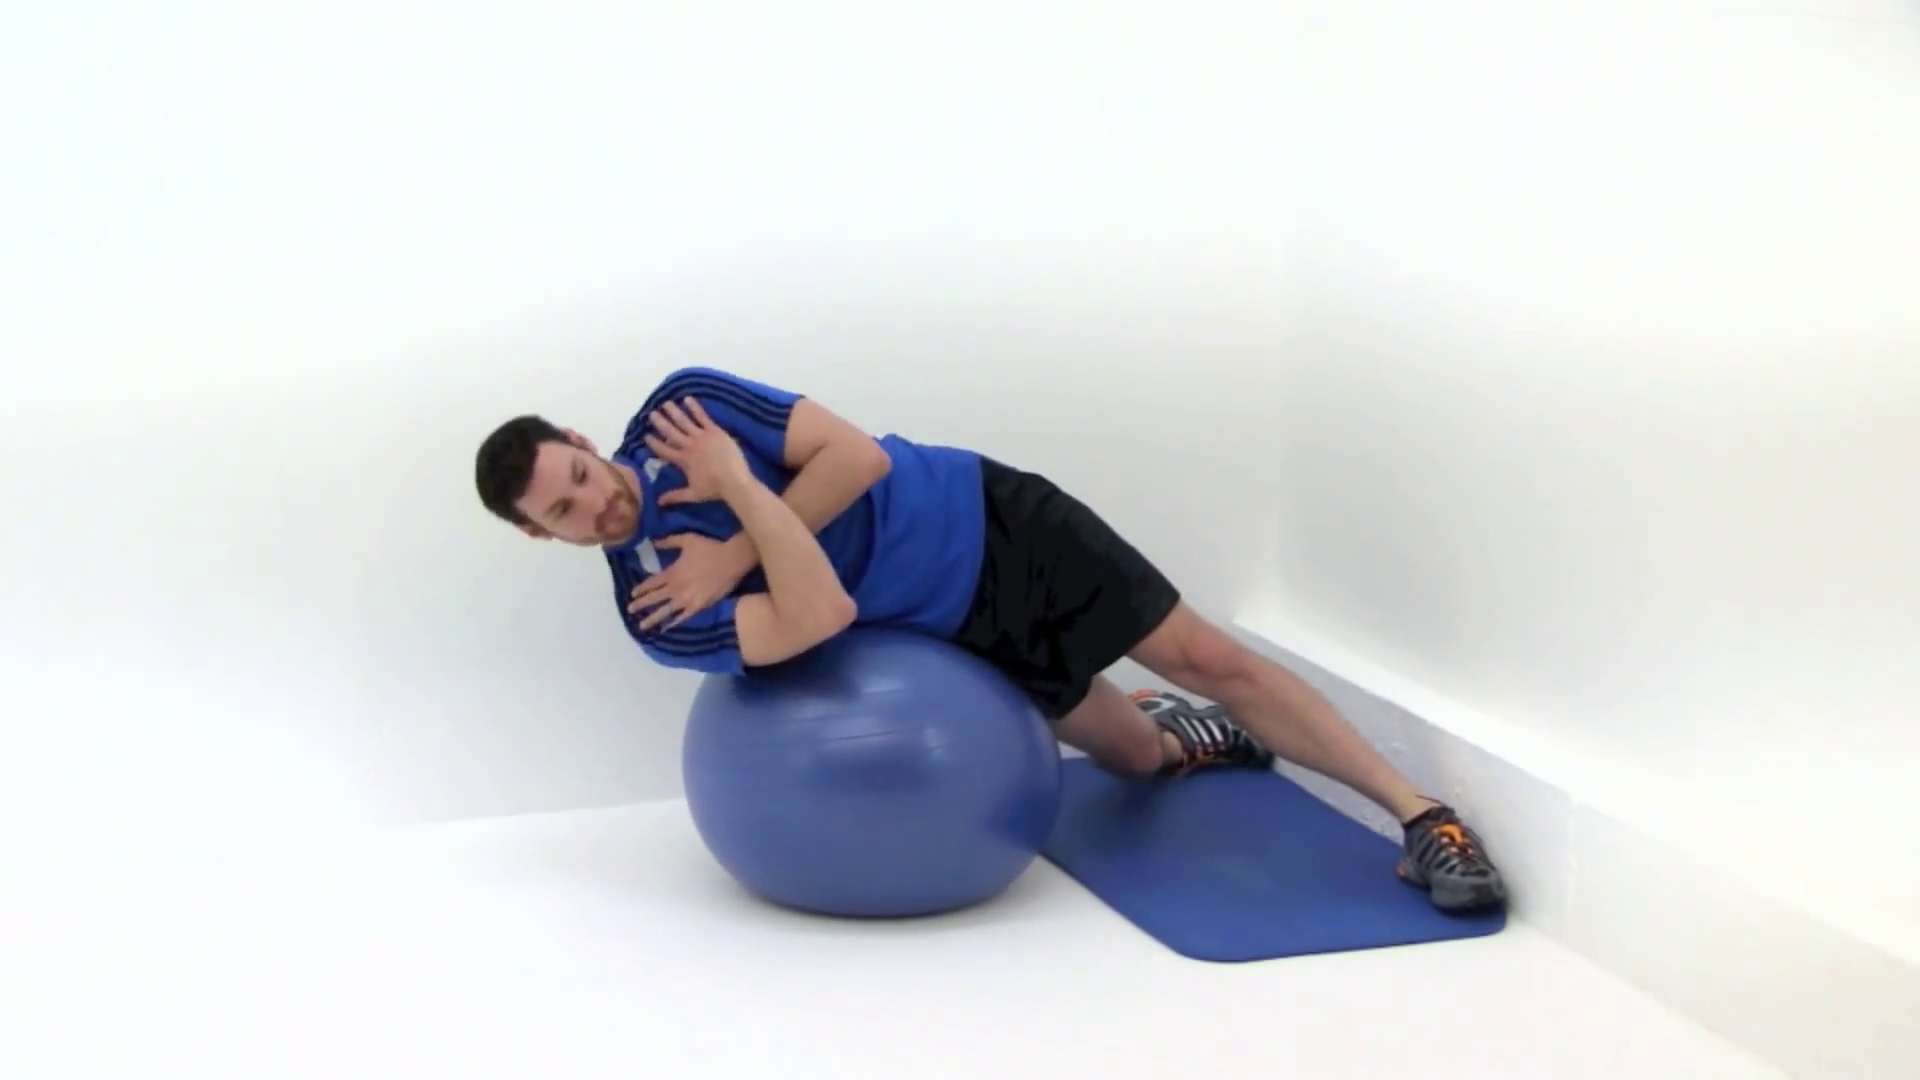yogaball: (669, 622, 1087, 938)
